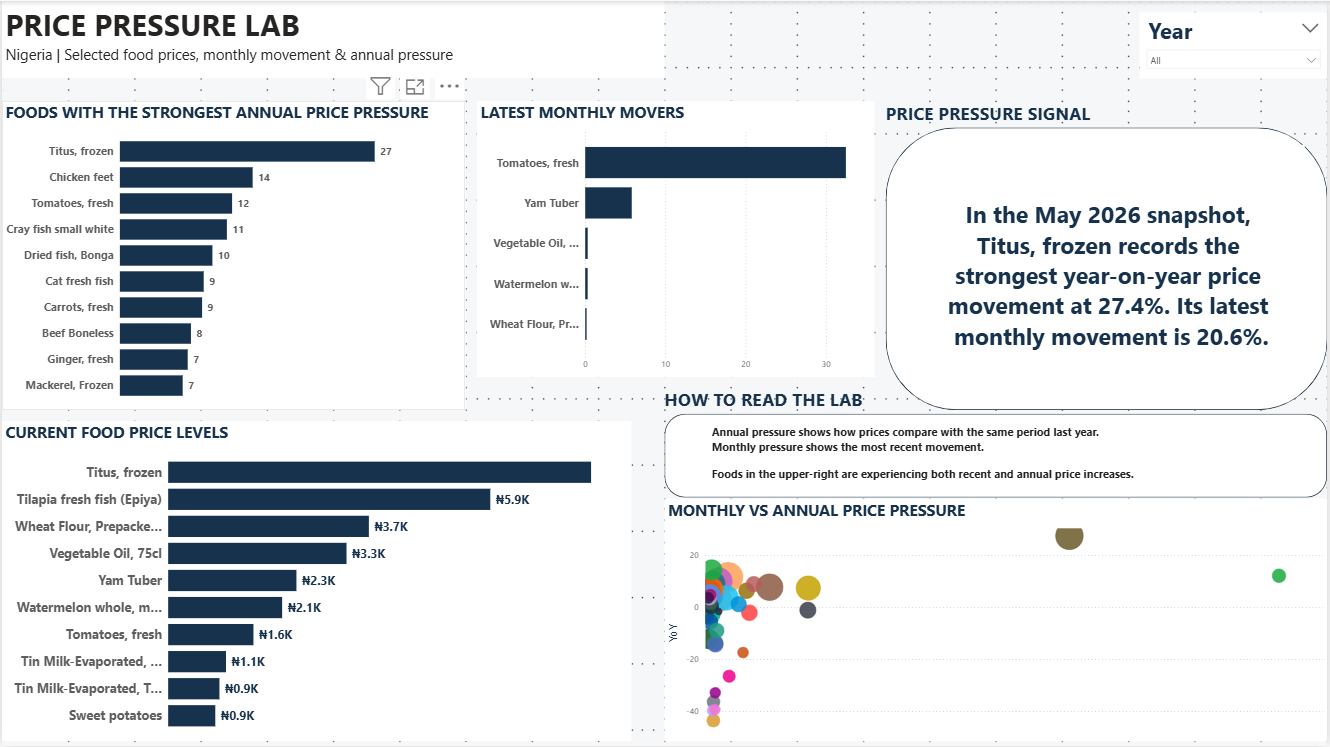

This screenshot's page, from the dashboard's own definition file:
{"tool":"powerbi","page":{"name":"PRICE PRESSURE LAB","canvas":[1920,1080],"ordinal":3},"visuals":[{"type":"textbox","box":[0,0,960,112],"z":0},{"type":"slicer","fields":{"Values":["Dim_Date.Year"]},"box":[1648,16,272,96],"z":1000},{"type":"shape","title":"PRICE PRESSURE SIGNAL","box":[1280,144,640,448],"z":2000},{"type":"clusteredBarChart","title":"FOODS WITH THE STRONGEST ANNUAL PRICE PRESSURE","fields":{"Category":["Food_Prices.Item Label"],"Y":["Sum(Food_Prices.YoY)"]},"box":[0,144,672,448],"z":3000},{"type":"scatterChart","title":"MONTHLY VS ANNUAL PRICE PRESSURE","fields":{"Size":["Sum(Food_Prices.Average of May-26)"],"Series":["Food_Prices.Item Label"],"X":["Sum(Food_Prices.MoM)"],"Y":["Food_Prices.YoY"]},"box":[960,720,960,352],"z":4000},{"type":"barChart","title":"CURRENT FOOD PRICE LEVELS","fields":{"Category":["Food_Prices.Item Label"],"Y":["Sum(Food_Prices.Average of May-26)"]},"box":[0,608,912,464],"z":5000},{"type":"barChart","title":"LATEST MONTHLY MOVERS","fields":{"Category":["Food_Prices.Item Label"],"Y":["Sum(Food_Prices.MoM)"]},"box":[688,144,576,400],"z":6000},{"type":"card","fields":{"Values":["KPI.Price Pressure Signal"]},"box":[1328,208,560,336],"z":7000},{"type":"shape","title":"HOW TO READ THE LAB","box":[960,560,960,160],"z":8000},{"type":"textbox","box":[1024,608,848,96],"z":9000}]}

Visuals, with their boxes in screenshot pixels (x1, y1, x2, y2), scaled from the page's 1920x1080 canvas onto the 1330x747 screenshot:
textbox: x1=0, y1=0, x2=665, y2=77
slicer - Dim_Date.Year: x1=1142, y1=11, x2=1329, y2=77
"PRICE PRESSURE SIGNAL" shape: x1=887, y1=100, x2=1329, y2=409
"FOODS WITH THE STRONGEST ANNUAL PRICE PRESSURE" clusteredBarChart: x1=0, y1=100, x2=466, y2=409
"MONTHLY VS ANNUAL PRICE PRESSURE" scatterChart: x1=665, y1=498, x2=1329, y2=741
"CURRENT FOOD PRICE LEVELS" barChart: x1=0, y1=421, x2=632, y2=741
"LATEST MONTHLY MOVERS" barChart: x1=477, y1=100, x2=876, y2=376
card - KPI.Price Pressure Signal: x1=920, y1=144, x2=1308, y2=376
"HOW TO READ THE LAB" shape: x1=665, y1=387, x2=1329, y2=498
textbox: x1=709, y1=421, x2=1297, y2=487
